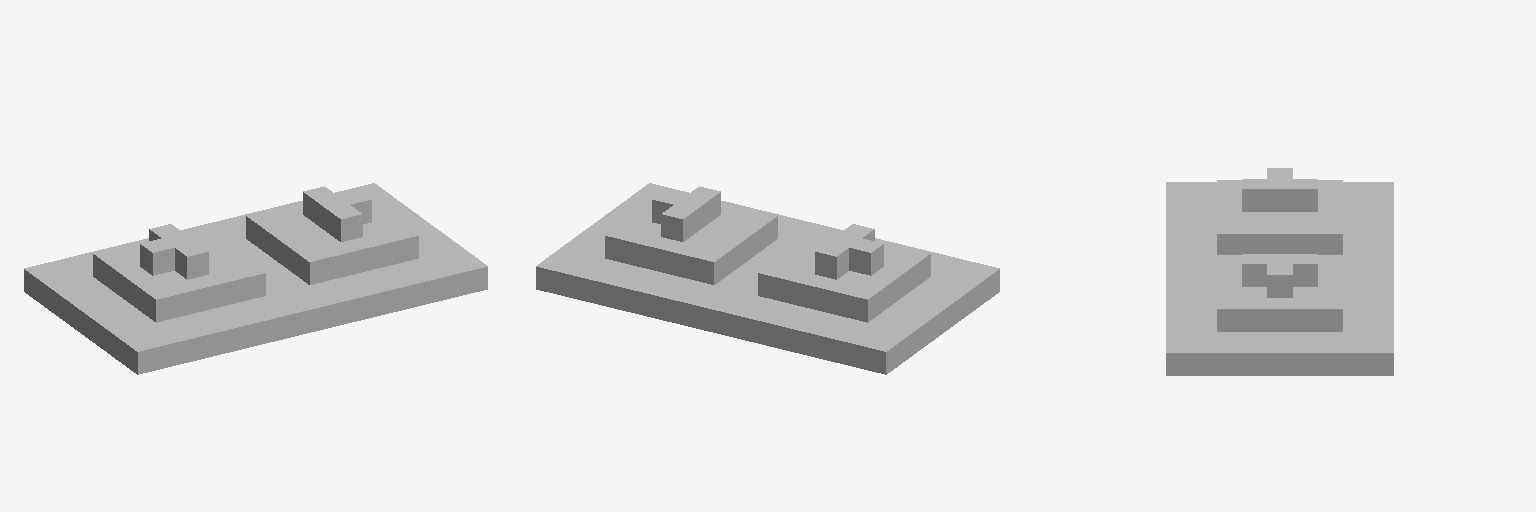
The model's file is lift botton.obj.
3 renders of one model, left to right at view 1: azimuth 30°, elevation 25°; view 2: azimuth 150°, elevation 25°; view 3: azimuth 270°, elevation 25°, orthographic.
Bounding box in the file's own units: 16 × 3 × 9.